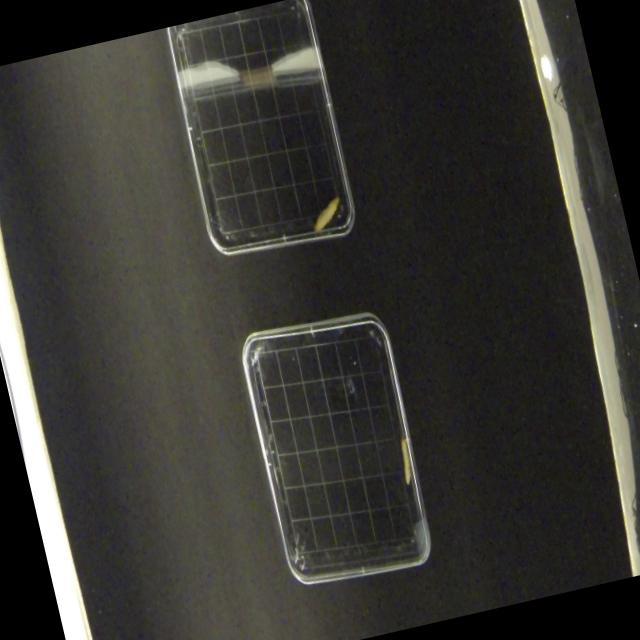larva: (391, 429, 418, 488), (307, 195, 346, 233)
